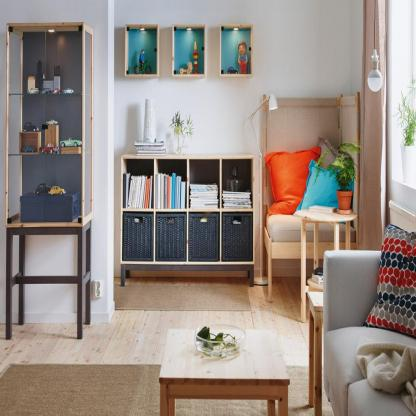Bed: (263, 96, 360, 300)
Carpet: (0, 365, 160, 416)
Curtains: (351, 0, 388, 250)
Sofa: (321, 218, 416, 416)
Table: (158, 324, 292, 416)
Wooden floor: (0, 311, 273, 373)
